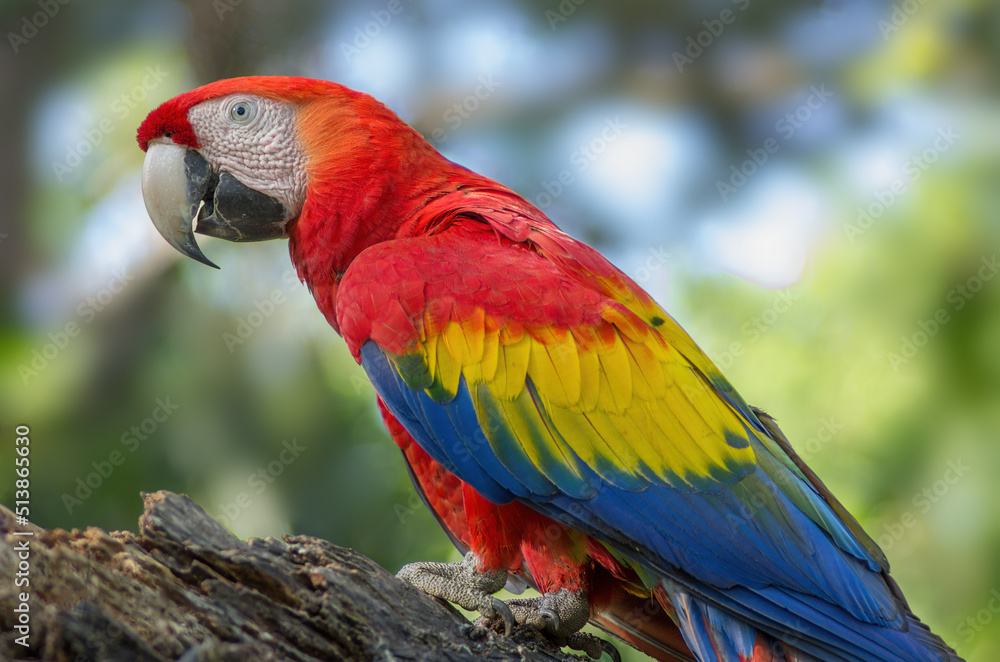Lapa: (108, 49, 978, 662)
